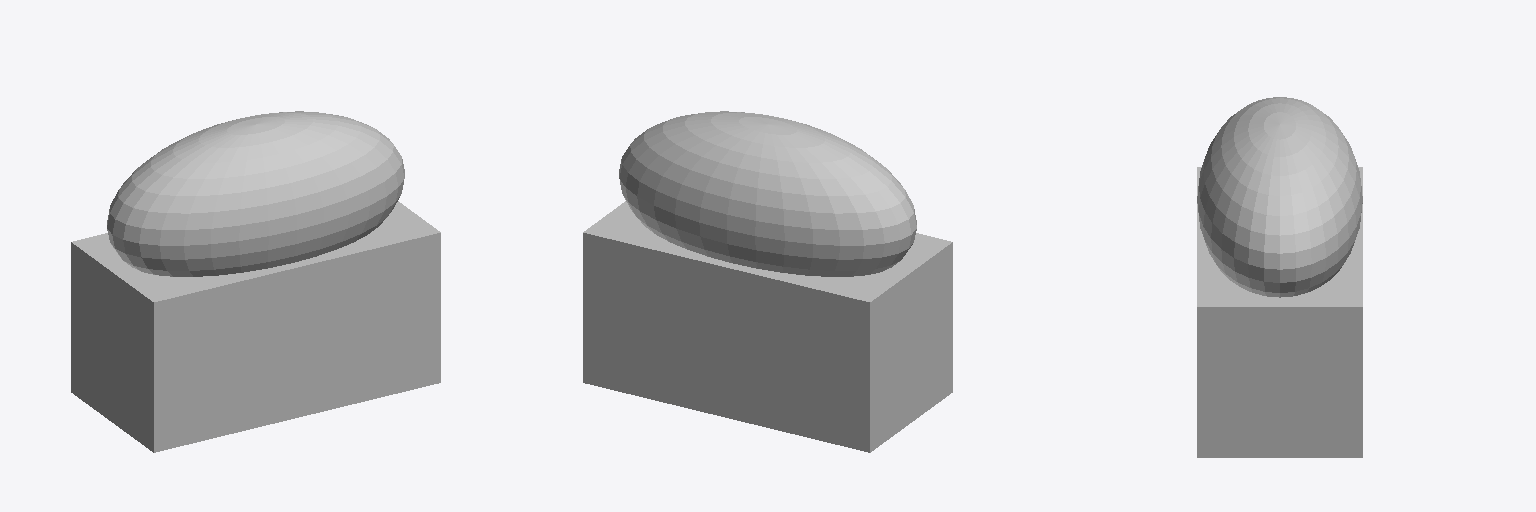
File: MedBush.obj
The picture shows the model from 3 angles: view 1: azimuth 30°, elevation 25°; view 2: azimuth 150°, elevation 25°; view 3: azimuth 270°, elevation 25°; orthographic projection.
Parts seen in each view (by area): view 1: Cube; view 2: Cube; view 3: Cube.
Part boxes in pixels (bbox=[...]): Cube: bbox=[71, 111, 440, 452]; Cube: bbox=[583, 111, 952, 452]; Cube: bbox=[1197, 97, 1362, 457].
Bounding box in the file's own units: 4 × 3.5 × 2.